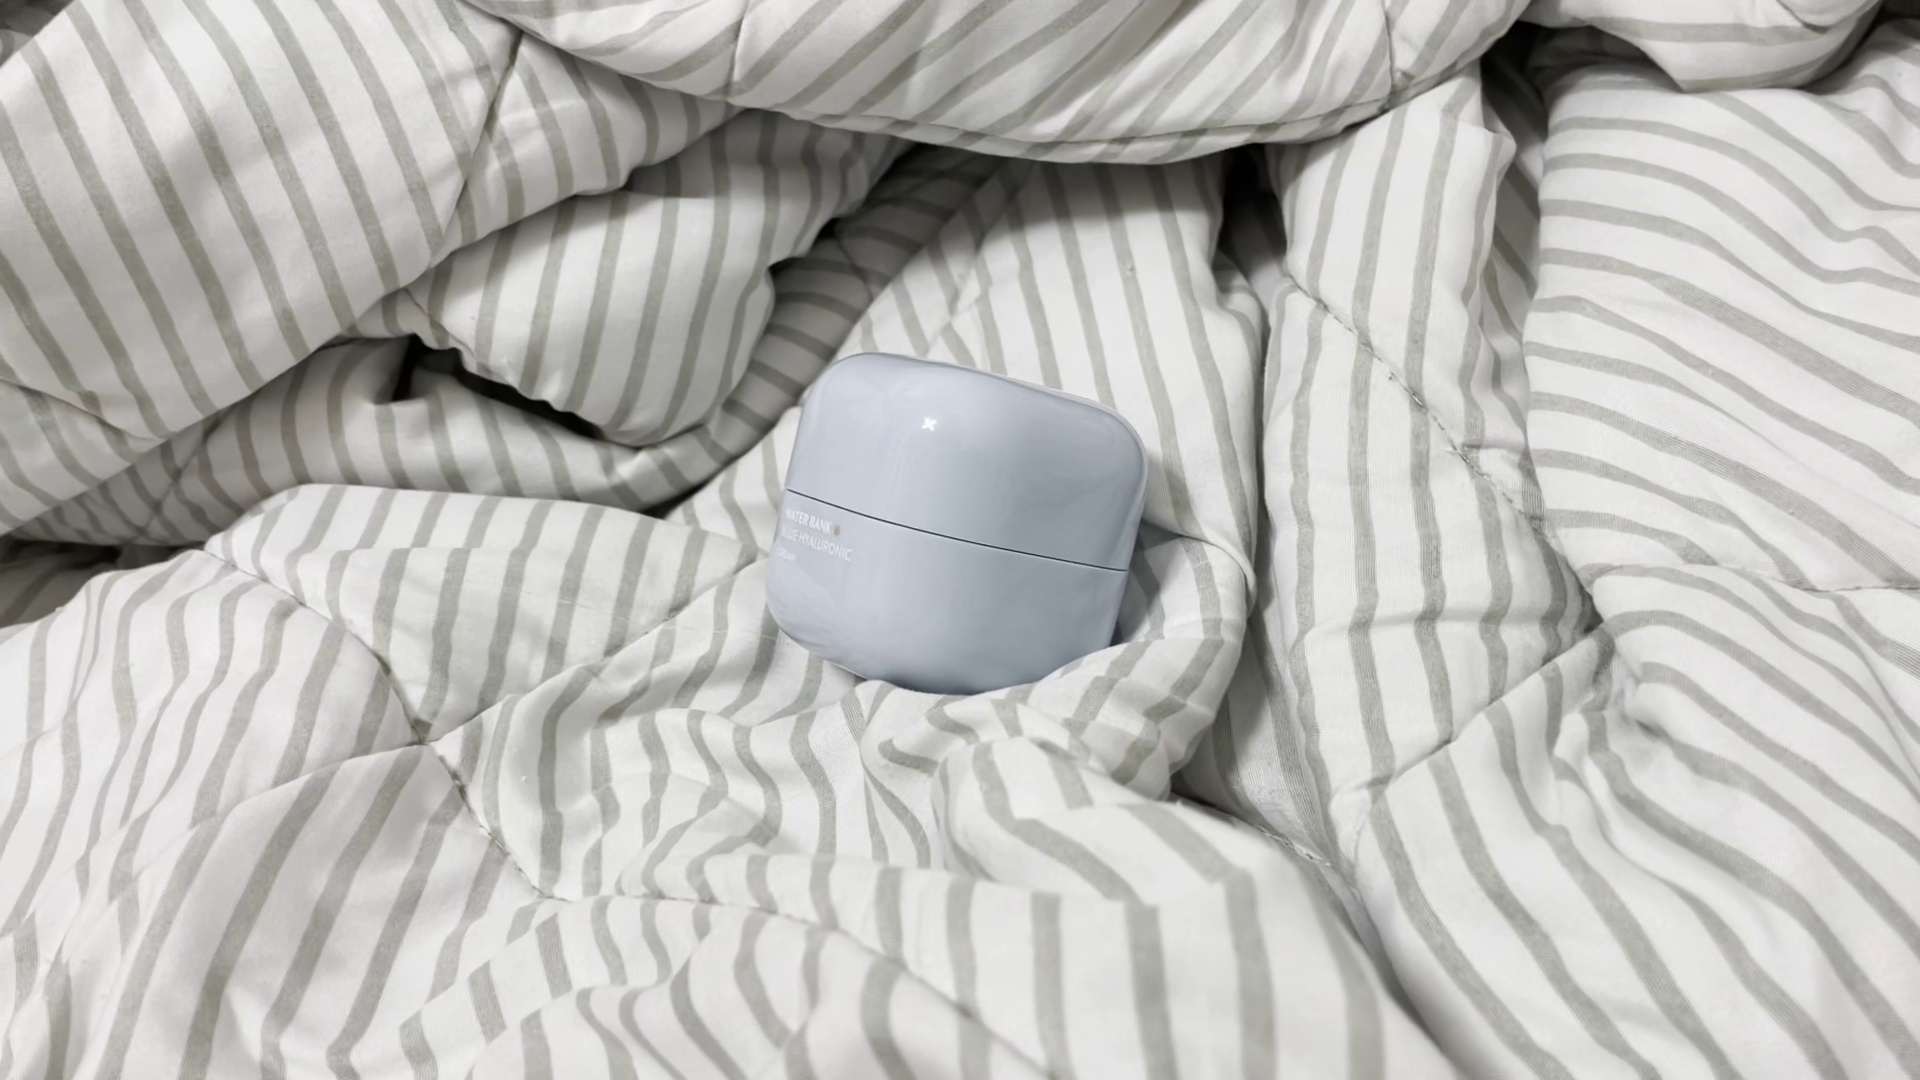cream: (767, 349, 1142, 692)
